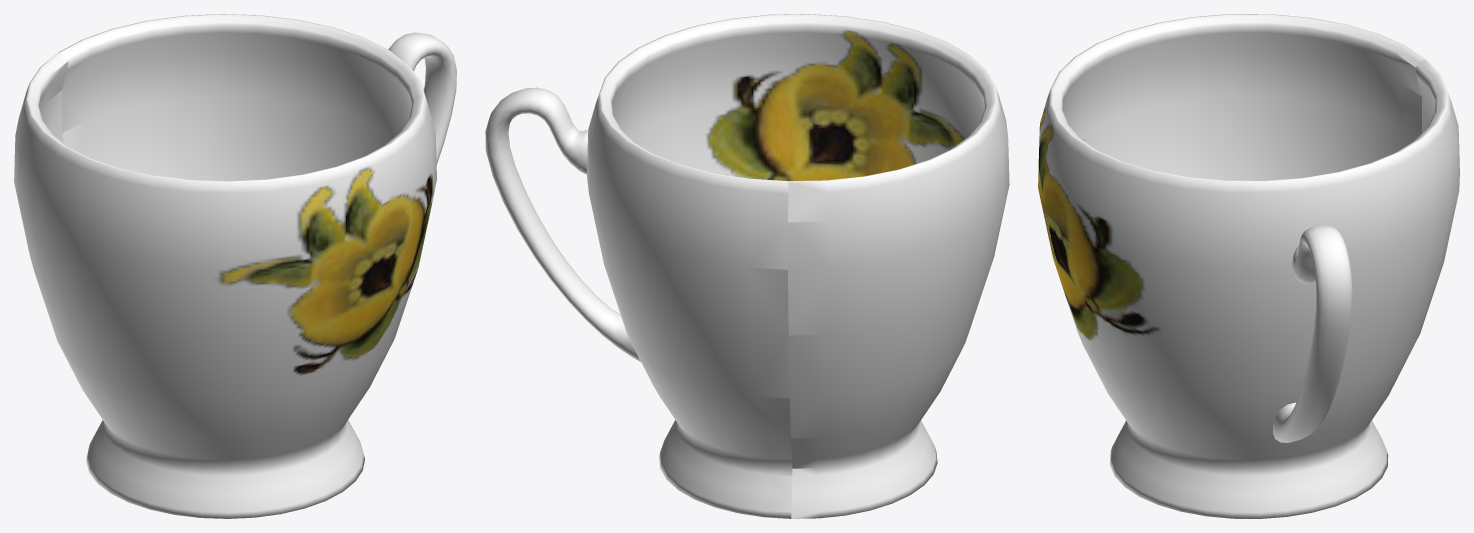
The model's file is TeaCup.FBX.
The picture shows the model from 3 angles, left to right: view 1: azimuth 30°, elevation 25°; view 2: azimuth 150°, elevation 25°; view 3: azimuth 270°, elevation 25°; orthographic projection.
Visible parts, largest first — view 1: polySurface1; view 2: polySurface1; view 3: polySurface1.
Part boxes in pixels (bbox=[...]): polySurface1: bbox=[14, 14, 456, 518]; polySurface1: bbox=[485, 14, 1009, 518]; polySurface1: bbox=[1038, 14, 1459, 518].
Size of the model in its own units: 9.21 by 7.09 by 7.46.
Materials: 1 (1 with a texture image).
